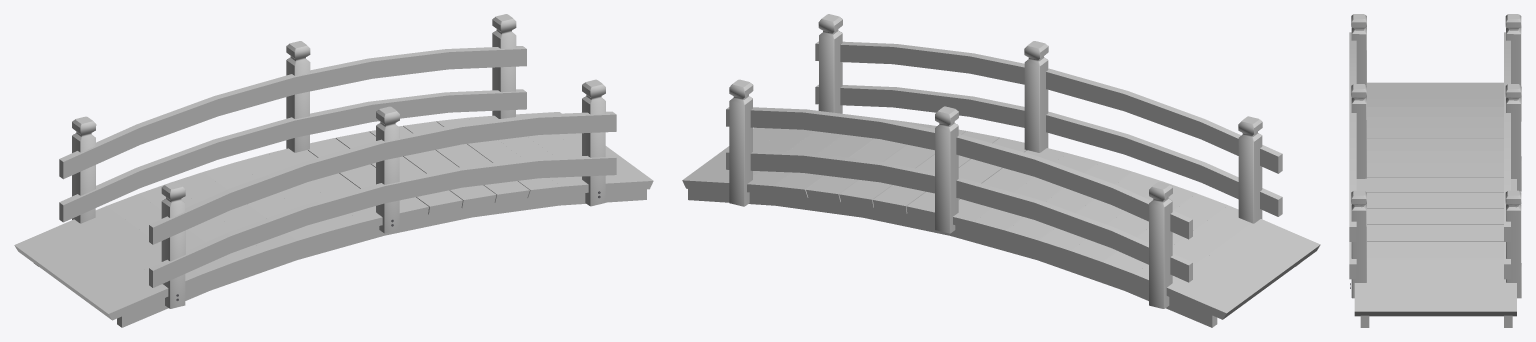
The model's file is PuenteMadera.fbx.
The picture shows the model from 3 angles, left to right: view 1: azimuth 30°, elevation 25°; view 2: azimuth 150°, elevation 25°; view 3: azimuth 270°, elevation 25°; orthographic projection. The views are drawn at different scales.
Visible parts, largest first — view 1: Box093; view 2: Box093; view 3: Box093.
Part boxes in pixels (left/top/right/bottom): Box093: left=14, top=14, right=653, bottom=327; Box093: left=682, top=14, right=1320, bottom=327; Box093: left=1349, top=14, right=1521, bottom=327.
Size of the model in its own units: 2.38 by 0.6402 by 0.754.
